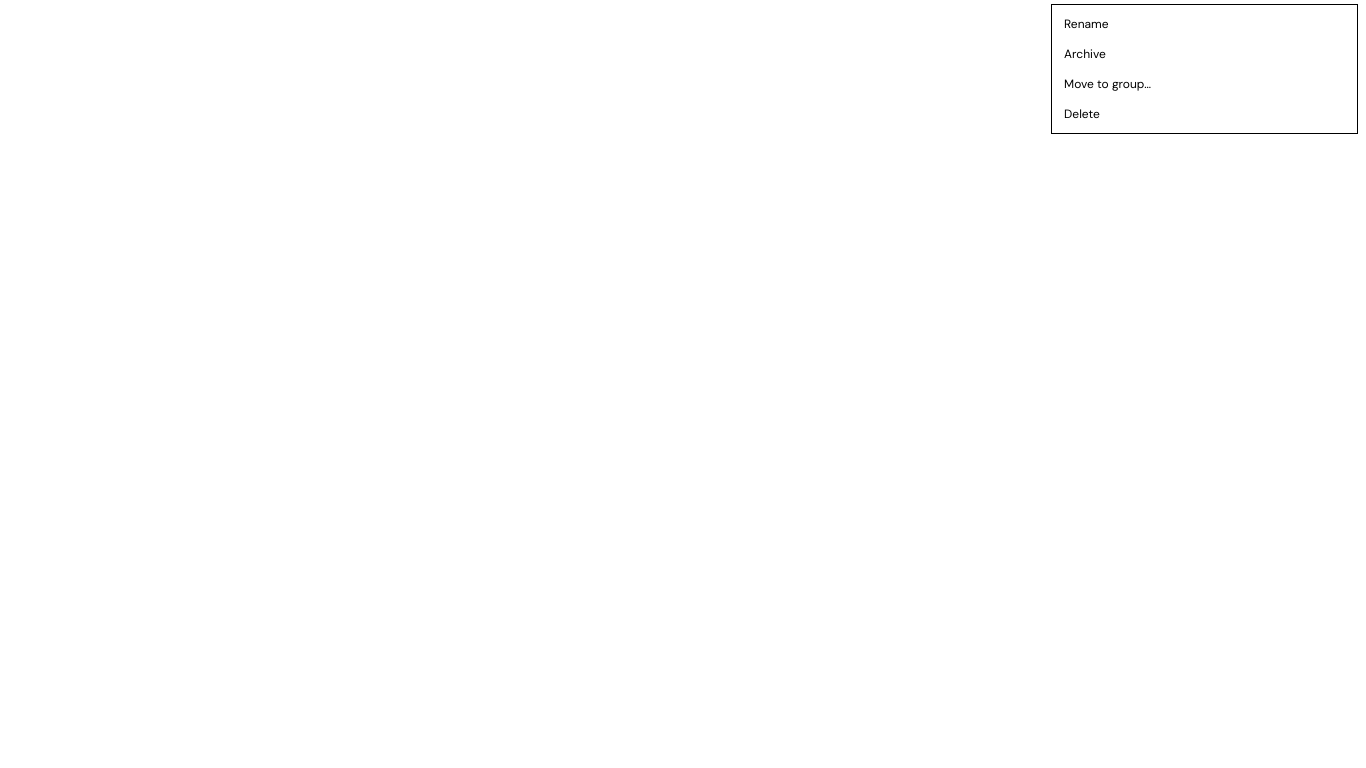
ThreadActionMenu — focus management (WCAG 2.4.3) › Cancel button (safe default) receives focus on confirm-delete transition
Click the menu item "Delete" at (1082, 114), box [1052,99,1357,129]
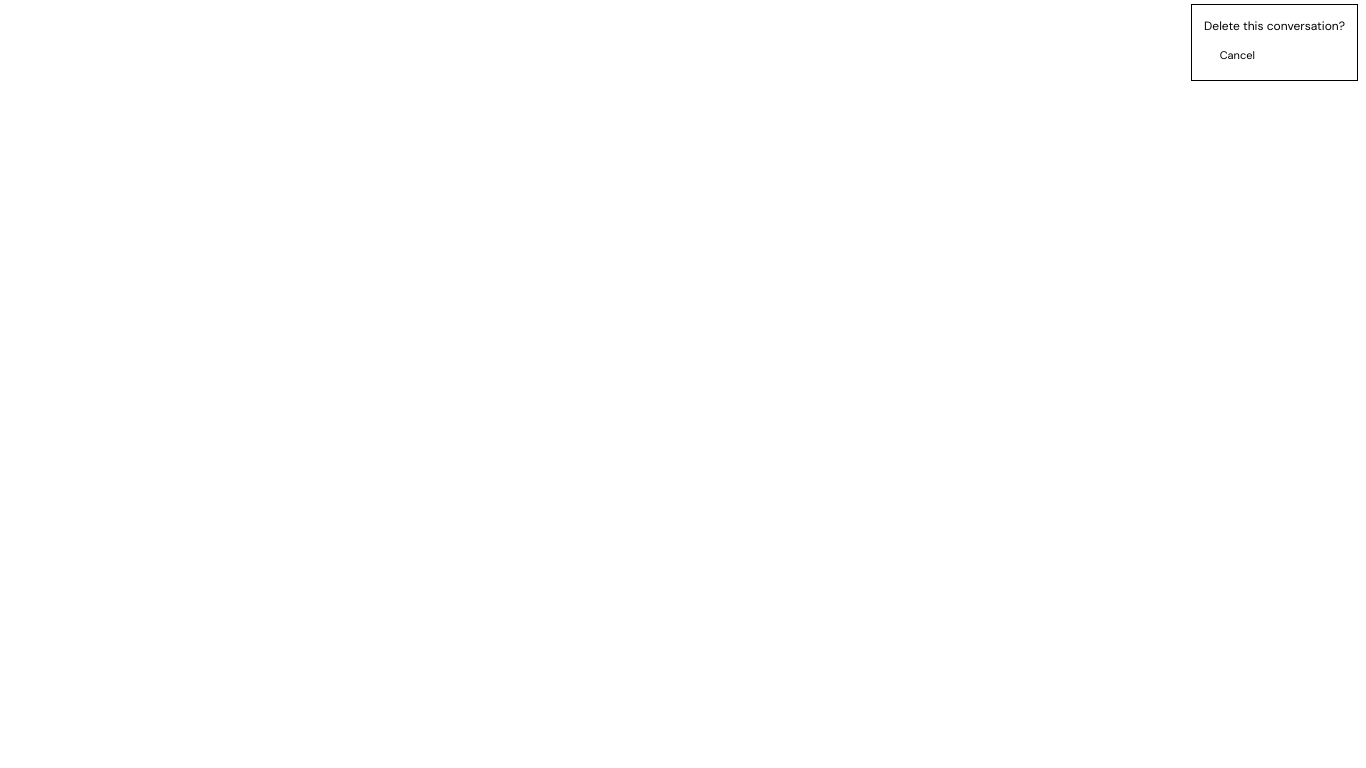
Check: the button "Cancel" is shown, box [1204,43,1271,68]
